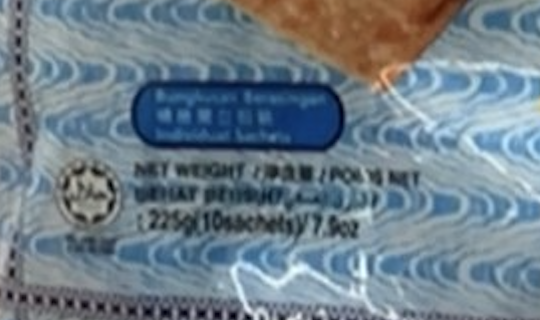halal: (68, 176, 111, 205)
